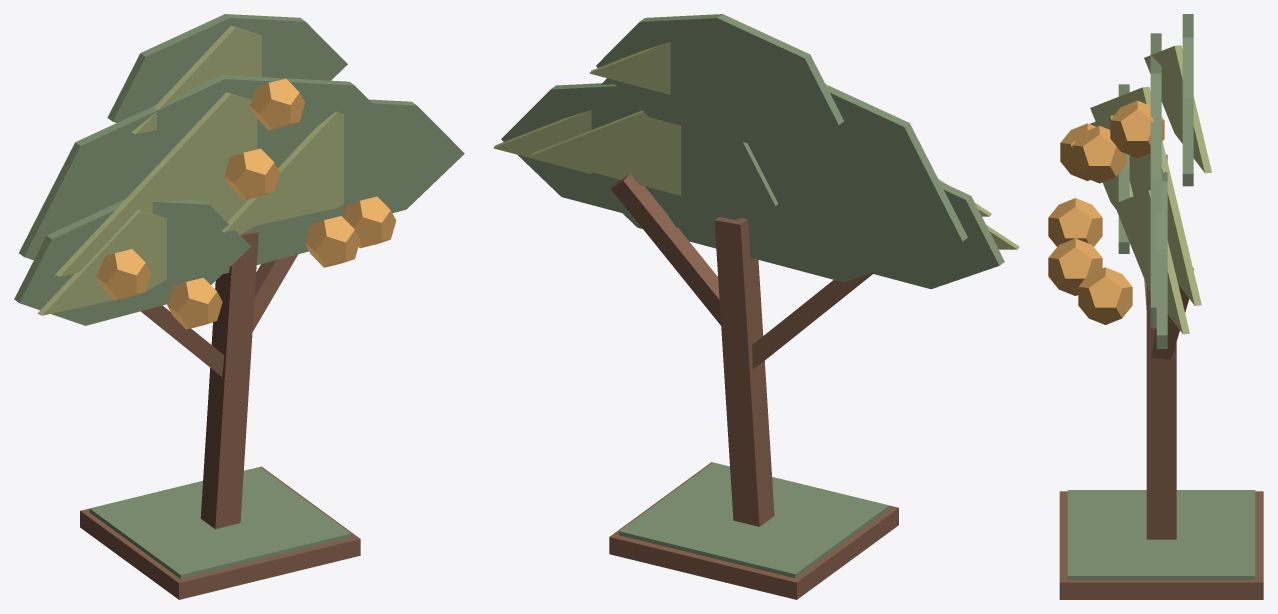
File: apricot_tree.glb
3 renders of one model, left to right at view 1: azimuth 30°, elevation 25°; view 2: azimuth 150°, elevation 25°; view 3: azimuth 270°, elevation 25°, orthographic. The views are drawn at different scales.
Parts seen in each view (by area): view 1: leaf_facet (×4), light_facet (×4), paper_top, apricot (×6), trunk, paper_base, branch_left, branch_right; view 2: leaf_facet (×4), paper_top, trunk, light_facet (×3), paper_base, branch_right, branch_left; view 3: paper_top, apricot (×6), light_facet (×4), leaf_facet (×4), trunk, paper_base, branch_right.
Boxes of the visible parts, left/top/right/bottom form: leaf_facet (×4): left=14, top=14, right=464, bottom=325; light_facet (×4): left=37, top=25, right=343, bottom=315; paper_top: left=89, top=467, right=351, bottom=578; apricot (×6): left=96, top=78, right=396, bottom=329; trunk: left=200, top=231, right=258, bottom=529; paper_base: left=80, top=466, right=360, bottom=599; branch_left: left=141, top=305, right=224, bottom=376; branch_right: left=252, top=254, right=297, bottom=331; leaf_facet (×4): left=501, top=14, right=1004, bottom=289; paper_top: left=619, top=462, right=889, bottom=578; trunk: left=714, top=217, right=774, bottom=526; light_facet (×3): left=493, top=42, right=991, bottom=216; paper_base: left=609, top=462, right=898, bottom=599; branch_right: left=611, top=174, right=721, bottom=325; branch_left: left=752, top=271, right=875, bottom=368; paper_top: left=1067, top=490, right=1255, bottom=579; apricot (×6): left=1048, top=100, right=1164, bottom=324; light_facet (×4): left=1090, top=45, right=1211, bottom=334; leaf_facet (×4): left=1118, top=14, right=1193, bottom=348; trunk: left=1146, top=285, right=1176, bottom=539; paper_base: left=1059, top=491, right=1263, bottom=599; branch_right: left=1151, top=268, right=1193, bottom=359.
Bounding box in the file's own units: 2.76 × 2.91 × 1.08.
